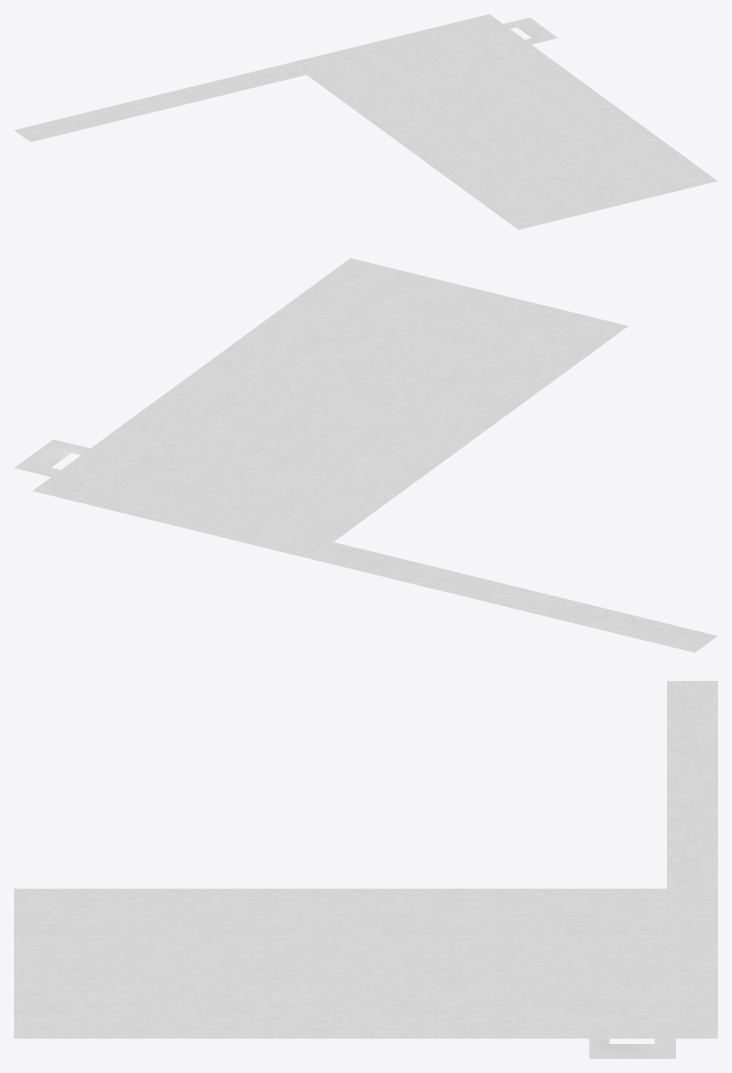
Rendered from Floor (2).fbx.
3 renders of one model, top to bottom at view 1: azimuth 30°, elevation 25°; view 2: azimuth 150°, elevation 25°; view 3: azimuth 270°, elevation 25°, orthographic. The views are drawn at different scales.
Visible parts, largest first — view 1: RangeFloor; view 2: RangeFloor; view 3: RangeFloor.
Boxes of the visible parts, <box> form: RangeFloor: <box>14,14,717,229</box>; RangeFloor: <box>14,258,717,652</box>; RangeFloor: <box>14,681,717,1058</box>.
Size of the model in its own units: 9583 by 7546 by 0.7252.
